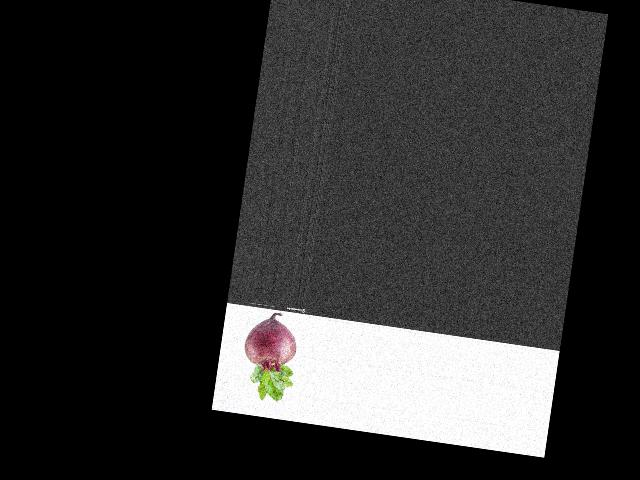beet: (236, 309, 302, 404)
